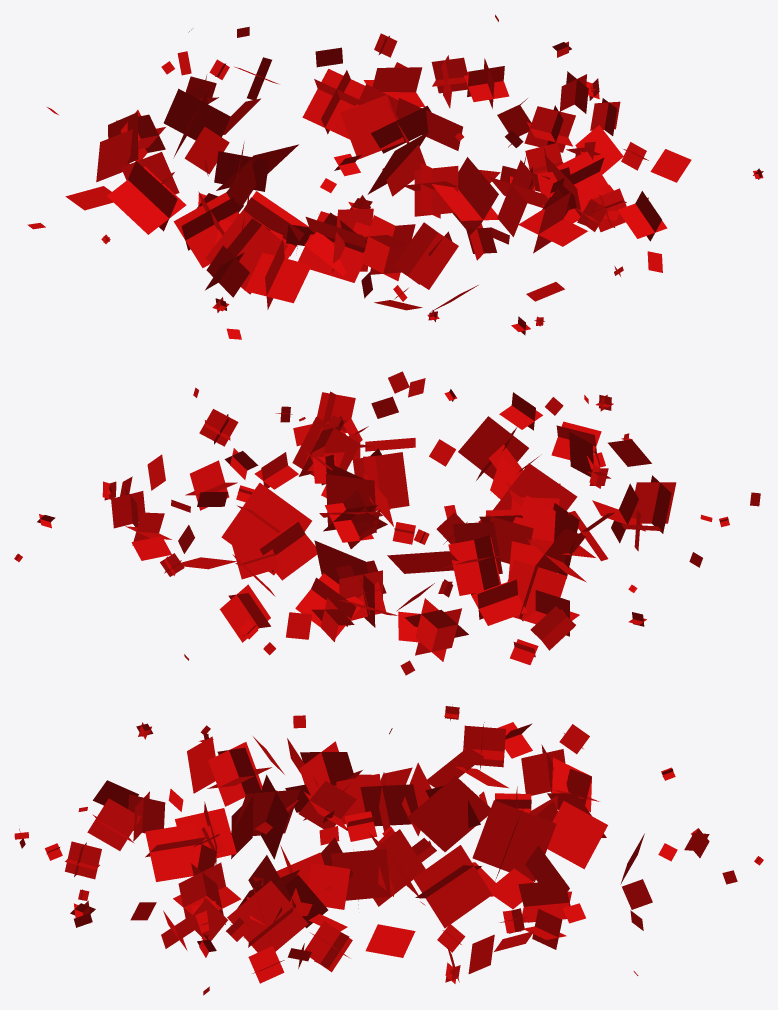
3 views of the same model, one above another, from view 1: azimuth 30°, elevation 25°; view 2: azimuth 150°, elevation 25°; view 3: azimuth 270°, elevation 25° (orthographic). The views are drawn at different scales.
Visible parts, largest first — view 1: sarassum final 3; view 2: sarassum final 3; view 3: sarassum final 3.
Boxes of the visible parts, left/top/right/bottom form: sarassum final 3: left=27, top=14, right=763, bottom=339; sarassum final 3: left=14, top=371, right=760, bottom=675; sarassum final 3: left=14, top=704, right=763, bottom=995.
Bounding box in the file's own units: 4.42 × 0.6171 × 4.96.
